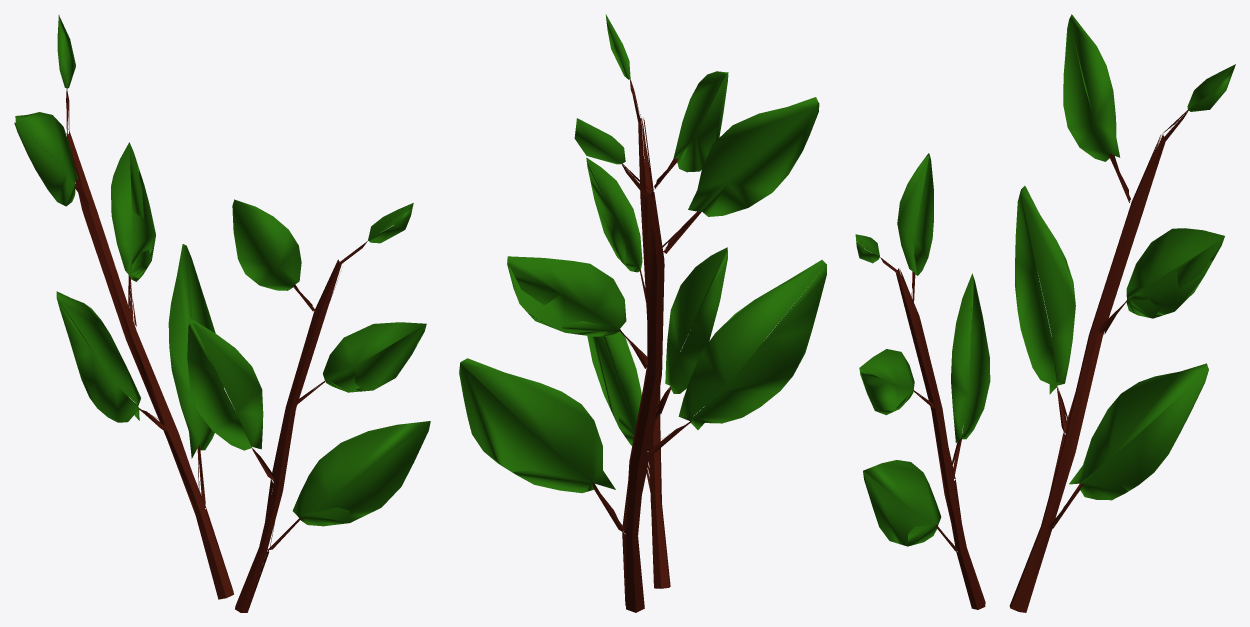
Rendered from SM_JutePlant_LOD2.fbx.
3 renders of one model, left to right at view 1: azimuth 30°, elevation 25°; view 2: azimuth 150°, elevation 25°; view 3: azimuth 270°, elevation 25°, orthographic. The views are drawn at different scales.
Visible parts, largest first — view 1: JuteLeaf.001; view 2: JuteLeaf.001; view 3: JuteLeaf.001.
Boxes of the visible parts, box(x1,y1,x2,y2) form: JuteLeaf.001: box(14, 14, 430, 612); JuteLeaf.001: box(459, 14, 826, 612); JuteLeaf.001: box(855, 14, 1235, 612).
Size of the model in its own units: 54.58 by 86.5 by 57.41.
